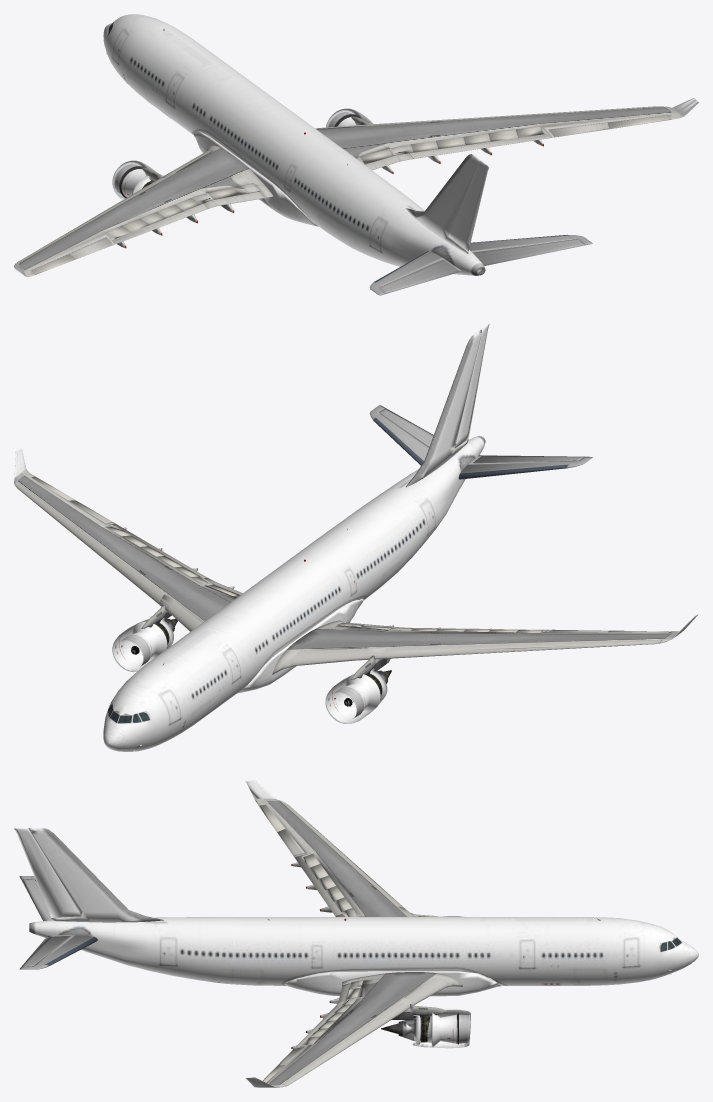
3 views of the same model, one above another, from view 1: azimuth 30°, elevation 25°; view 2: azimuth 150°, elevation 25°; view 3: azimuth 270°, elevation 25° (orthographic). The views are drawn at different scales.
Visible parts, largest first — view 1: vstab, slat_in_open0, elevator0, ge_nacelle0; view 2: vstab, slat_in_open0, ge_nacelle0, elevator0, ge_exhaust0; view 3: vstab, slat_in_open0, elevator0, ge_nacelle0, ge_exhaust0.
Boxes of the visible parts, <box> form: vstab: <box>14,14,698,275</box>; slat_in_open0: <box>14,106,684,276</box>; elevator0: <box>369,234,592,295</box>; ge_nacelle0: <box>112,108,373,200</box>; vstab: <box>14,324,698,751</box>; slat_in_open0: <box>14,469,678,674</box>; ge_nacelle0: <box>112,617,387,723</box>; elevator0: <box>369,405,592,479</box>; ge_exhaust0: <box>141,604,391,683</box>; vstab: <box>14,780,698,1087</box>; slat_in_open0: <box>254,798,462,1087</box>; elevator0: <box>19,876,97,969</box>; ge_nacelle0: <box>412,916,470,1048</box>; ge_exhaust0: <box>381,912,449,1041</box>.
Size of the model in its own units: 59.91 by 16.13 by 58.36.
20 materials, 16 textured.
